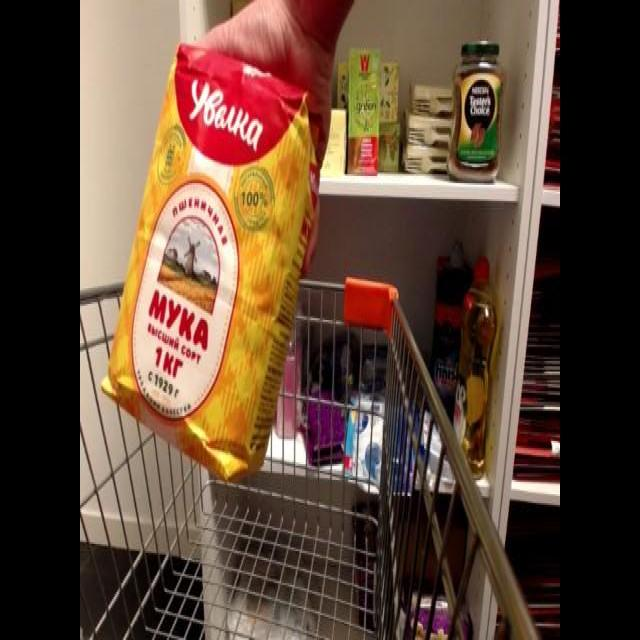Flour: (96, 37, 335, 482)
